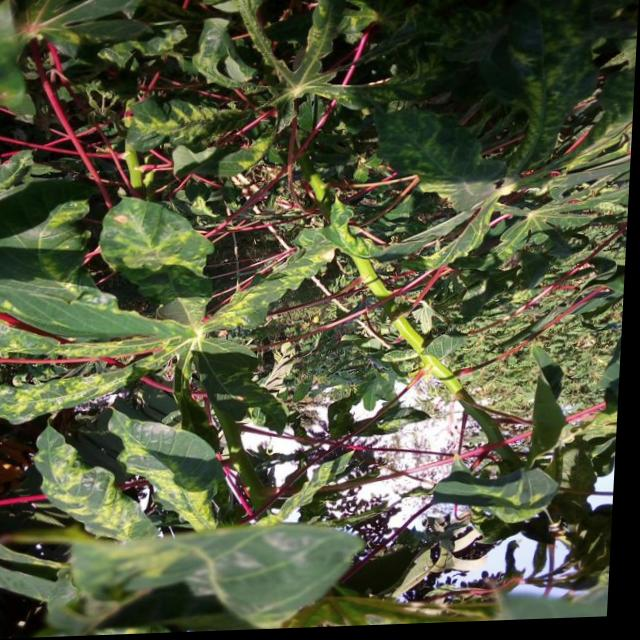Mosaico: (53, 403, 351, 640), (0, 225, 277, 366), (371, 91, 625, 240), (124, 23, 396, 157)
